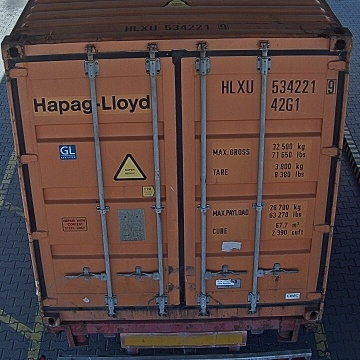serial_id: (221, 79, 336, 93)
